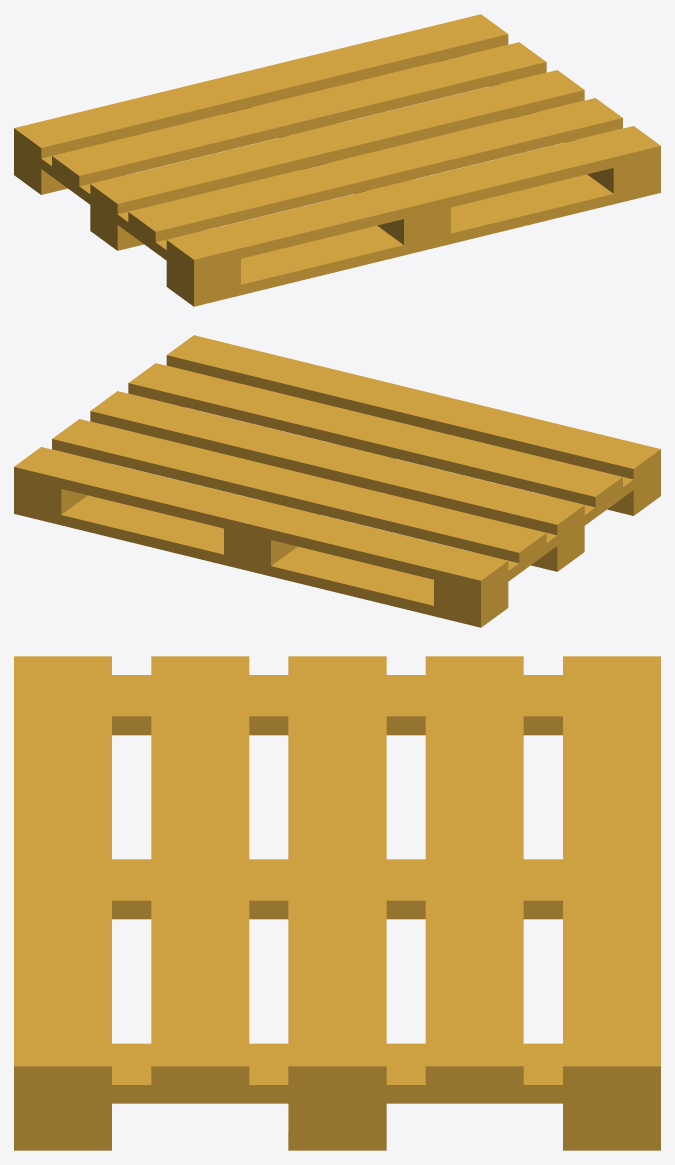
File: PaletKayu.fbx
The picture shows the model from 3 angles, top to bottom: view 1: azimuth 30°, elevation 25°; view 2: azimuth 150°, elevation 25°; view 3: azimuth 270°, elevation 25°; orthographic projection. The views are drawn at different scales.
Parts seen in each view (by area): view 1: Palet Kayu; view 2: Palet Kayu; view 3: Palet Kayu.
Part boxes in pixels (x1,y1,x2,y2): Palet Kayu: (14, 14, 660, 306); Palet Kayu: (14, 335, 660, 627); Palet Kayu: (14, 656, 660, 1150).
Size of the model in its own units: 111 by 10.66 by 73.98.
